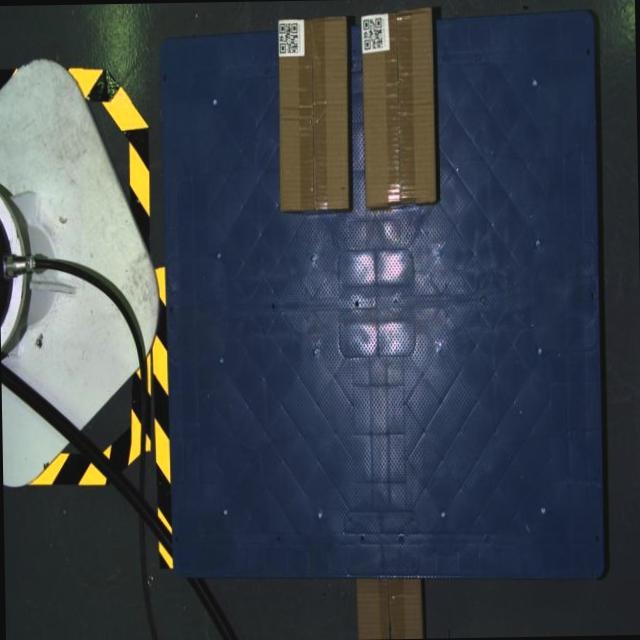box: (360, 8, 436, 208), (277, 16, 349, 212)
